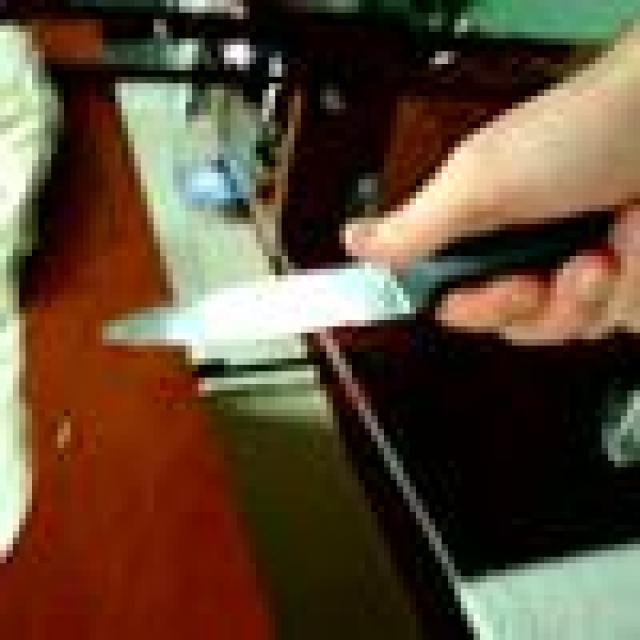faca: (70, 96, 640, 416)
